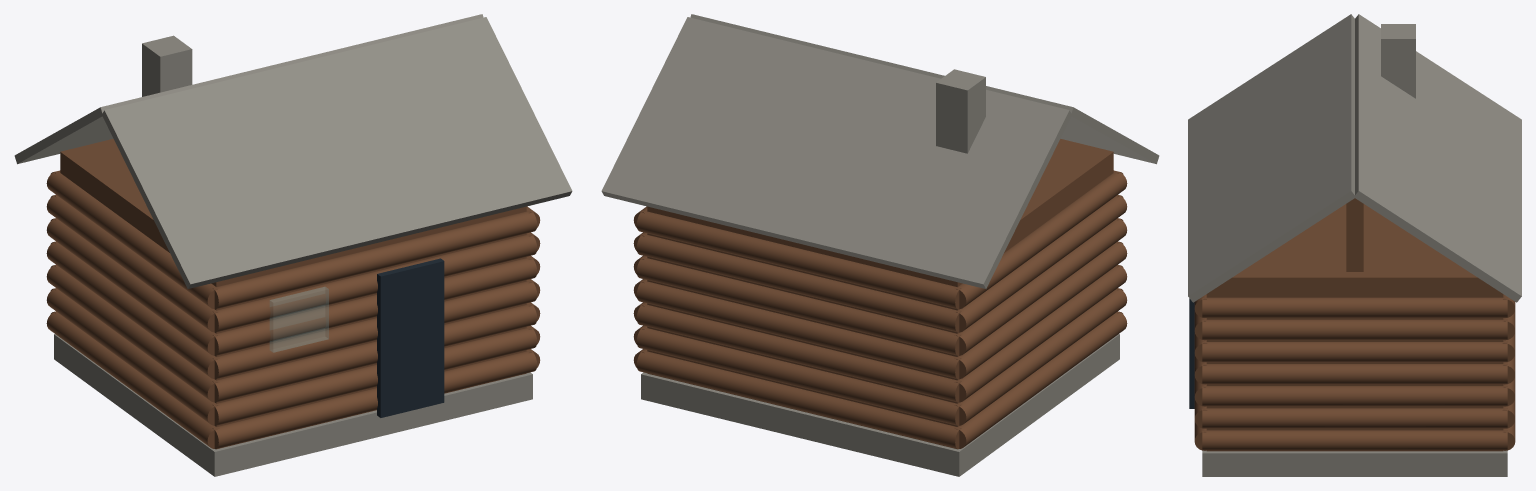
Rendered from log-cabin-lod0.glb.
The picture shows the model from 3 angles, left to right: view 1: azimuth 30°, elevation 25°; view 2: azimuth 150°, elevation 25°; view 3: azimuth 270°, elevation 25°; orthographic projection. The views are drawn at different scales.
Parts seen in each view (by area): view 1: roof-slope (×2), foundation, walls, door, log-front-6, log-front-5, log-front-1, log-front-2, log-front-0, log-front-4, log-front-3, log-side-2 (+8 smaller); view 2: roof-slope (×2), foundation, walls, log-front-1, log-front-4, log-front-6, log-front-3, log-front-2, log-front-5, log-front-0, log-side-2, log-side-4 (+6 smaller); view 3: roof-slope (×2), walls, foundation, log-side-0, log-side-4, log-side-1, log-side-2, log-side-3, log-side-6, log-side-5, chimney, gable (+1 smaller).
Part boxes in pixels (x1,y1,x2,y2): roof-slope (×2): [14, 14, 572, 288]; foundation: [54, 334, 532, 476]; walls: [60, 139, 526, 449]; door: [377, 258, 444, 417]; log-front-6: [212, 210, 537, 309]; log-front-5: [212, 233, 537, 332]; log-front-1: [212, 327, 537, 425]; log-front-2: [212, 303, 537, 402]; log-front-0: [212, 350, 537, 449]; log-front-4: [212, 257, 537, 355]; log-front-3: [212, 280, 537, 379]; log-side-2: [46, 265, 218, 402]; roof-slope (×2): [601, 14, 1159, 288]; foundation: [641, 334, 1119, 476]; walls: [647, 139, 1113, 449]; log-front-1: [636, 327, 961, 425]; log-front-4: [636, 257, 961, 355]; log-front-6: [636, 210, 961, 309]; log-front-3: [636, 280, 961, 379]; log-front-2: [636, 303, 961, 402]; log-front-5: [636, 233, 961, 332]; log-front-0: [636, 350, 961, 449]; log-side-2: [955, 265, 1127, 402]; log-side-4: [955, 218, 1127, 355]; roof-slope (×2): [1188, 14, 1521, 302]; walls: [1206, 204, 1503, 451]; foundation: [1202, 450, 1507, 476]; log-side-0: [1202, 430, 1507, 450]; log-side-4: [1202, 341, 1507, 362]; log-side-1: [1202, 408, 1507, 428]; log-side-2: [1202, 386, 1507, 406]; log-side-3: [1202, 364, 1507, 384]; log-side-6: [1202, 297, 1507, 317]; log-side-5: [1202, 319, 1507, 339]; chimney: [1381, 24, 1415, 98]; gable: [1346, 198, 1363, 271].
Size of the model in its own units: 4.8 by 4.1 by 3.83.
